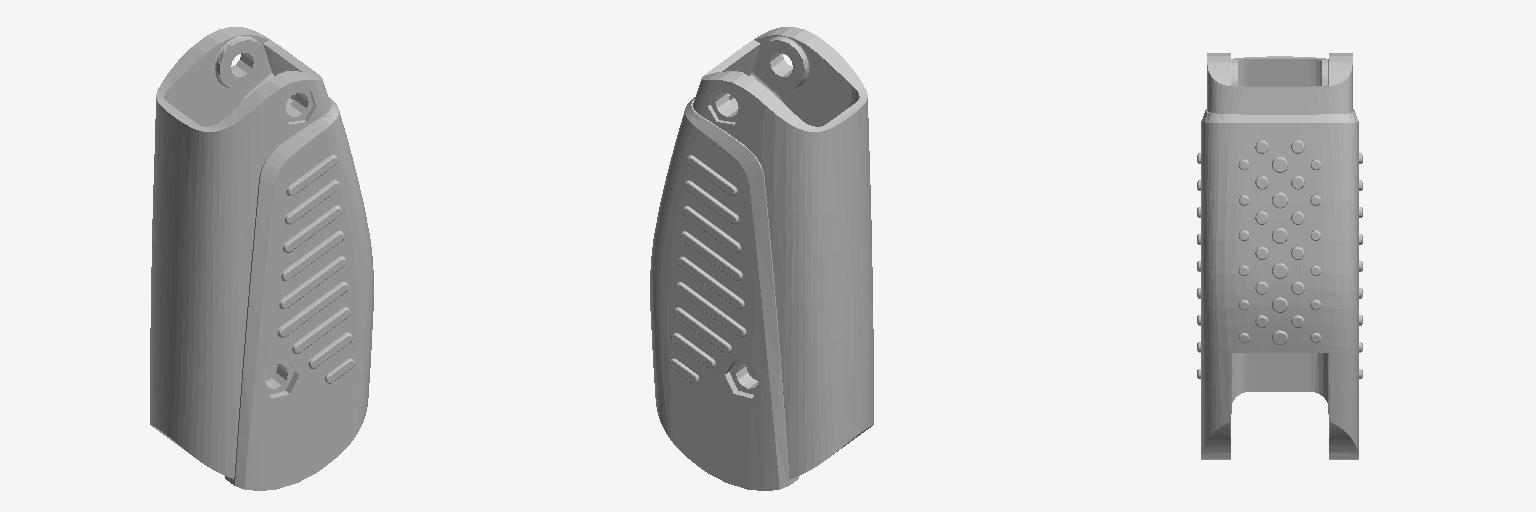
File: left_middle_1_visuals.obj
The picture shows the model from 3 angles: view 1: azimuth 30°, elevation 25°; view 2: azimuth 150°, elevation 25°; view 3: azimuth 270°, elevation 25°; orthographic projection.
Bounding box in the file's own units: 0.024 × 0.0493 × 0.0184.